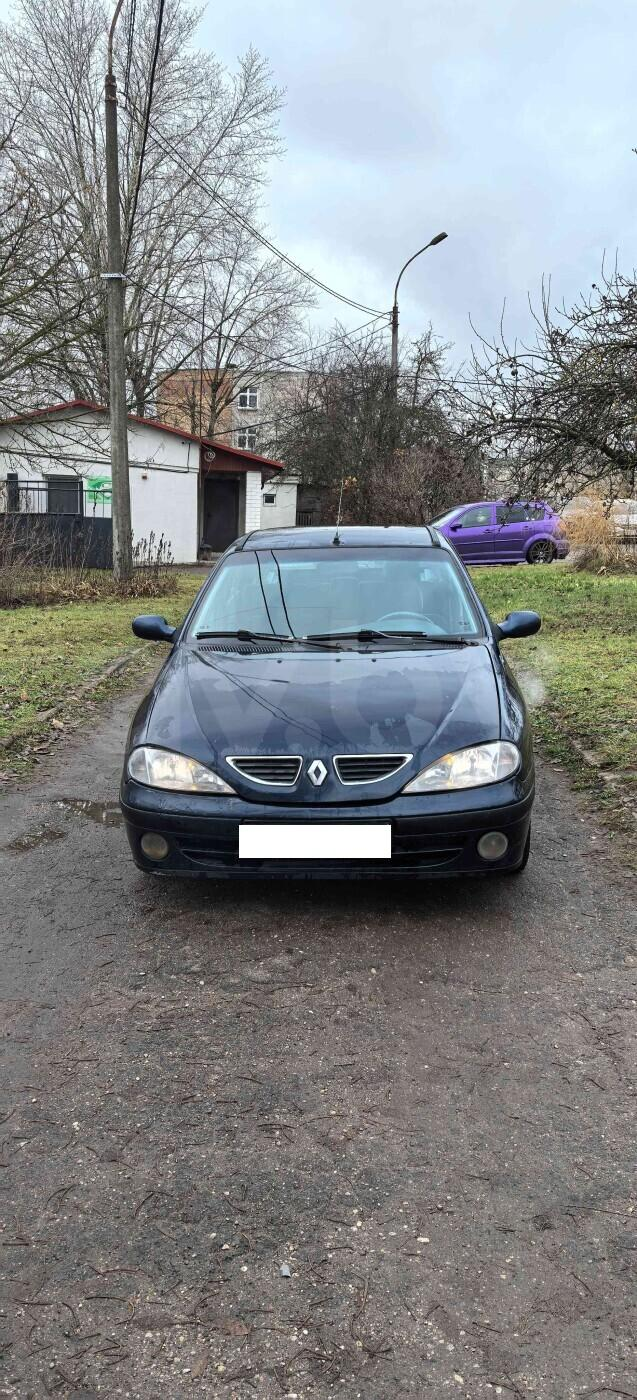Megane_1999-2003: (116, 520, 550, 914)
